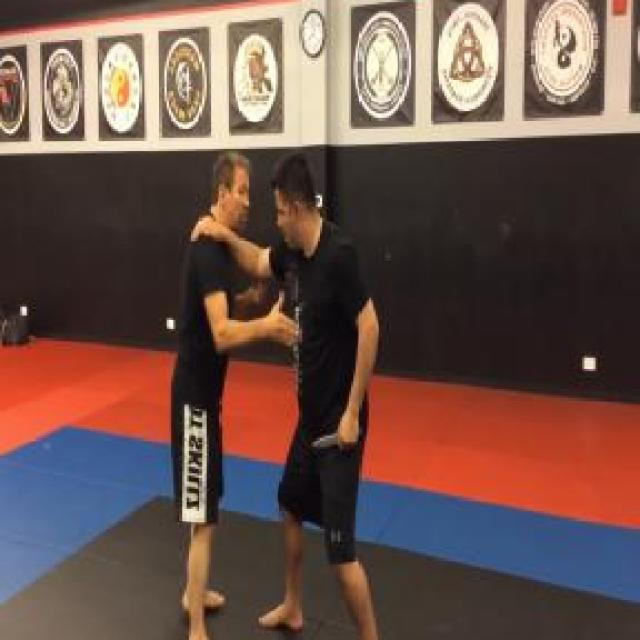knife: (311, 418, 365, 450)
